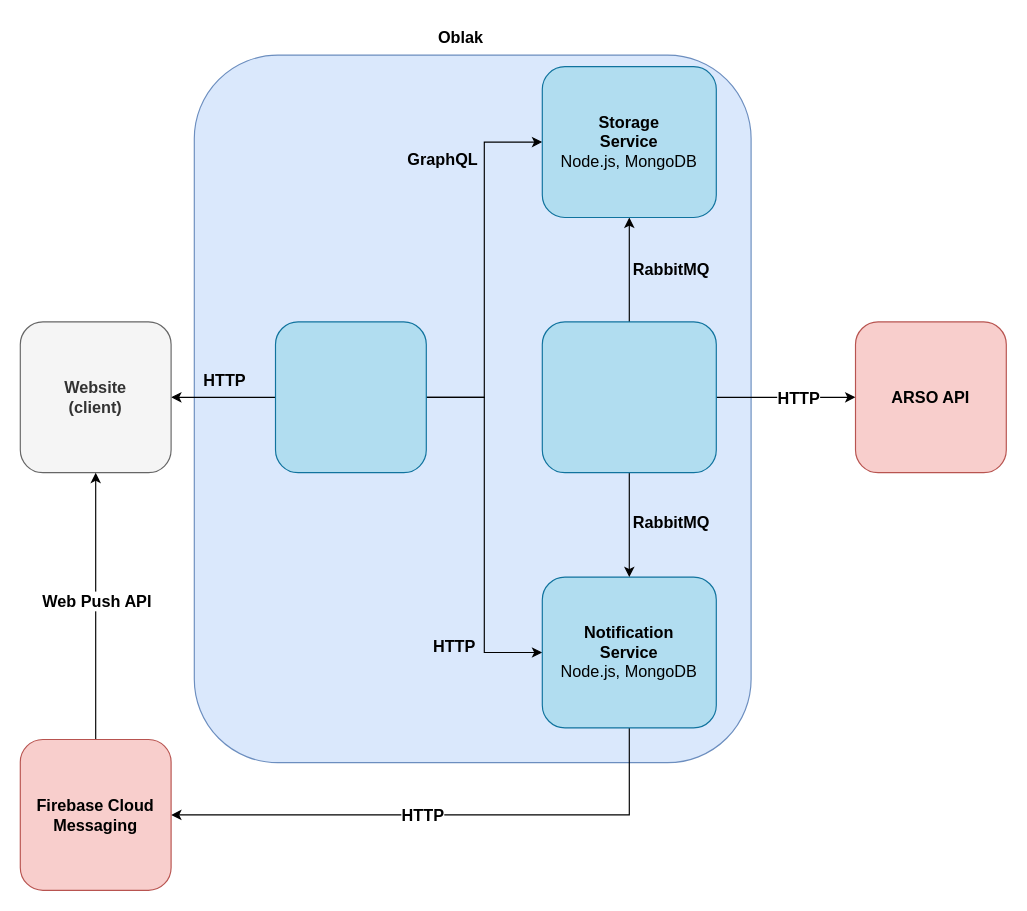
Some shapes in this 1027 by 911 pixel diagram are drawn without their labels. The shapes that lost their labels are listed below. From the top down, each one's centre as x and y in pixels, then its label:
At point (350, 397): "Web Service Nuxt.js".
At point (628, 397): "Scrapper Service Node.js, RabbitMQ".
